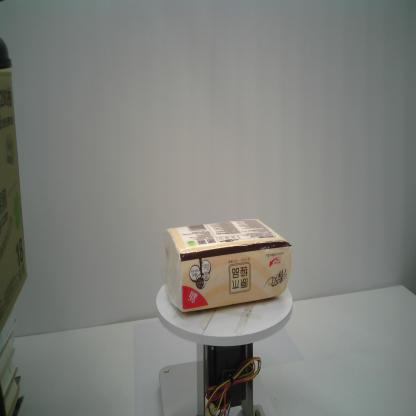Tissue: (162, 217, 292, 314)
